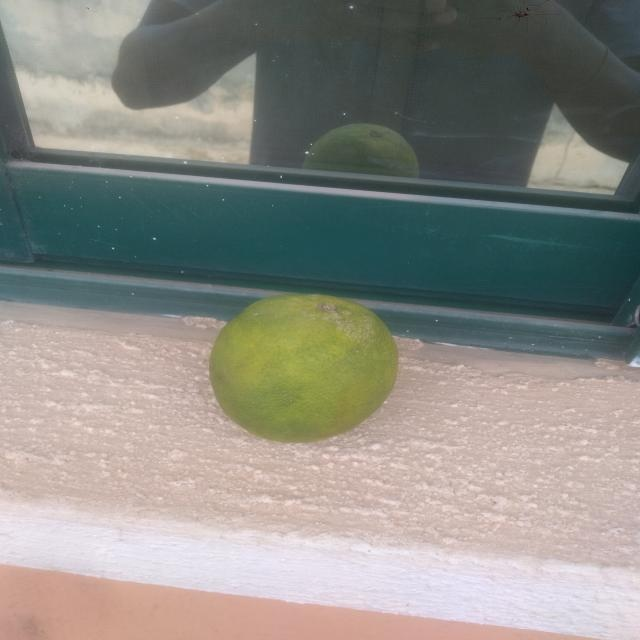agrume: (186, 278, 430, 470)
